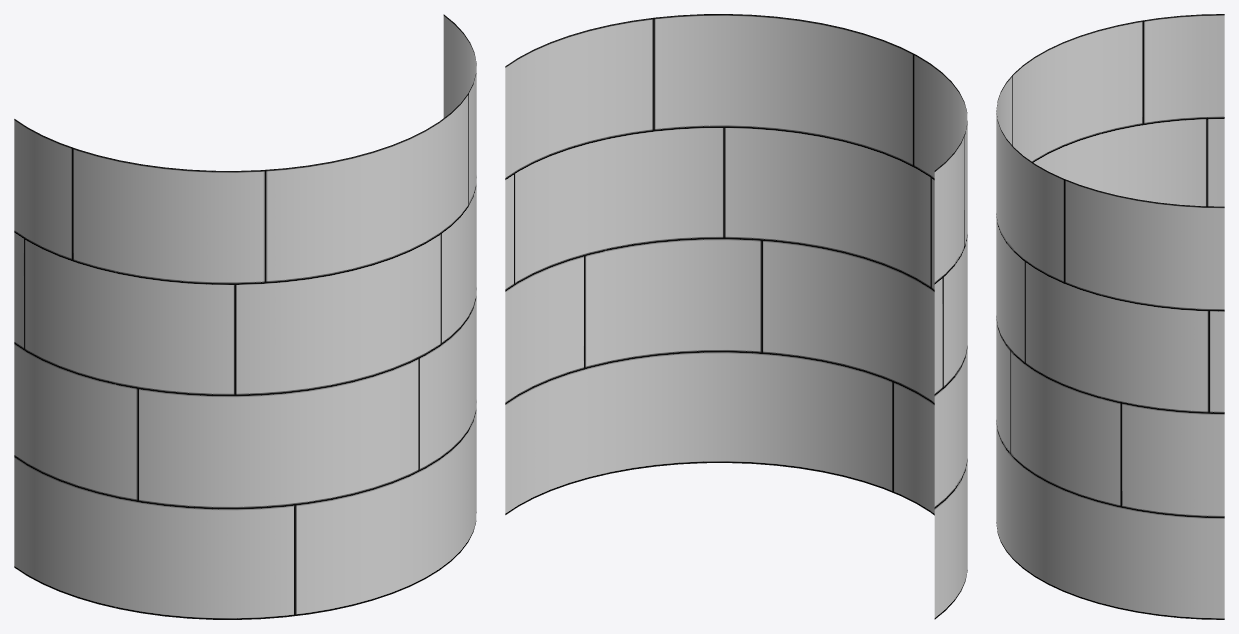
File: Wall350x350xRout175cm.FBX
3 renders of one model, left to right at view 1: azimuth 30°, elevation 25°; view 2: azimuth 150°, elevation 25°; view 3: azimuth 270°, elevation 25°, orthographic. The views are drawn at different scales.
Parts seen in each view (by area): view 1: Wall350x350xRout175cm; view 2: Wall350x350xRout175cm; view 3: Wall350x350xRout175cm.
Boxes of the visible parts, box(x1,y1,x2,y2) form: Wall350x350xRout175cm: box(14, 14, 476, 619); Wall350x350xRout175cm: box(505, 14, 967, 619); Wall350x350xRout175cm: box(996, 14, 1224, 619).
Size of the model in its own units: 350 by 350 by 175.
